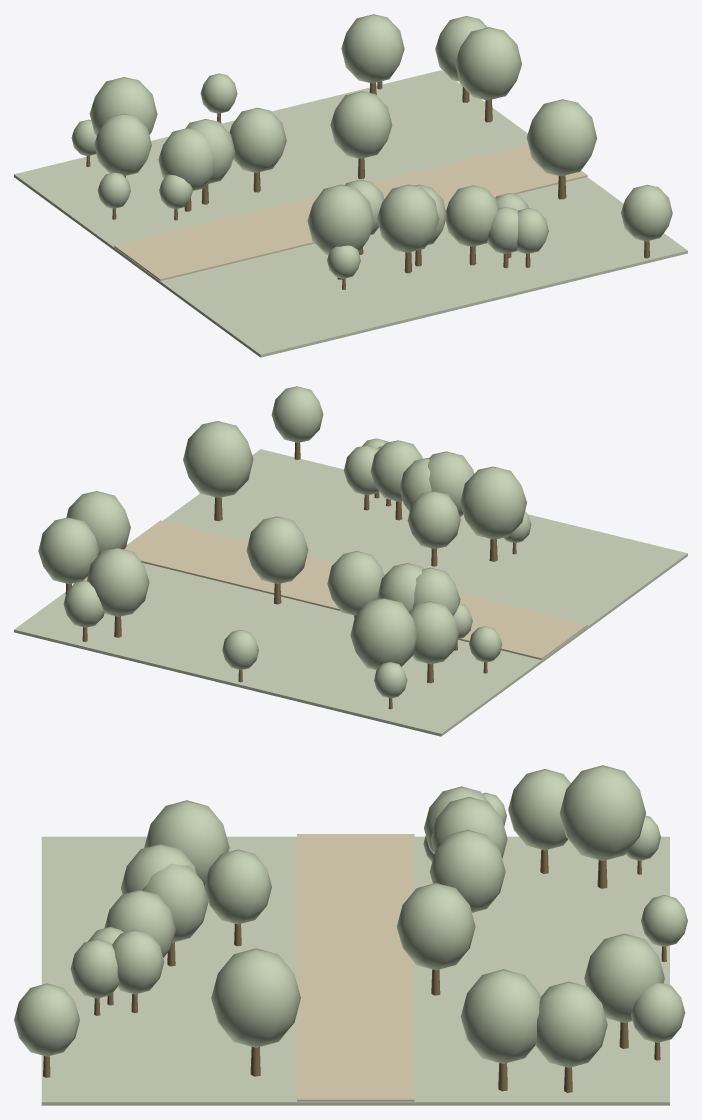
3 renders of one model, top to bottom at view 1: azimuth 30°, elevation 25°; view 2: azimuth 150°, elevation 25°; view 3: azimuth 270°, elevation 25°, orthographic. The views are drawn at different scales.
Visible parts, largest first — view 1: terrain, object 2, lod-near-21, lod-near-5, lod-near-29, lod-near-13, lod-near-16, lod-near-28, lod-near-23, lod-near-6, lod-near-18, lod-near-1 (+12 smaller); view 2: terrain, object 2, lod-near-21, lod-near-29, lod-near-27, lod-near-28, lod-near-13, lod-near-30, lod-near-23, lod-near-5, lod-near-7, lod-near-6 (+11 smaller); view 3: terrain, object 2, lod-near-21, lod-near-27, lod-near-5, lod-near-28, lod-near-30, lod-near-13, lod-near-23, lod-near-7, lod-near-29, lod-near-6 (+11 smaller).
Boxes of the visible parts, x1,y1,x2,y2 form: terrain: (14,70,687,357); object 2: (114,144,587,280); lod-near-21: (526,99,597,176); lod-near-5: (455,27,521,100); lod-near-29: (307,184,374,255); lod-near-13: (341,14,404,83); lod-near-16: (377,184,439,252); lod-near-28: (330,91,392,158); lod-near-23: (229,107,286,172); lod-near-6: (94,113,151,176); lod-near-18: (446,185,498,246); lod-near-1: (158,128,214,190); terrain: (14,449,687,736); object 2: (124,520,587,659); lod-near-21: (183,421,253,497); lod-near-29: (460,466,526,539); lod-near-27: (350,598,418,669); lod-near-28: (246,516,308,583); lod-near-13: (86,547,149,616); lod-near-30: (38,517,99,584); lod-near-23: (327,551,384,615); lod-near-5: (66,491,130,555); lod-near-7: (407,491,460,548); lod-near-6: (409,601,459,664); terrain: (41,836,669,1105); object 2: (297,834,414,1101); lod-near-21: (211,948,300,1047); lod-near-27: (559,765,645,860); lod-near-5: (460,969,540,1063); lod-near-28: (396,883,475,970); lod-near-30: (535,981,607,1067); lod-near-13: (584,933,664,1022); lod-near-23: (429,829,505,912); lod-near-7: (204,849,271,924); lod-near-29: (144,800,229,885); lod-near-6: (508,769,570,850).
Size of the model in its own units: 32.85 by 7.23 by 34.33.
